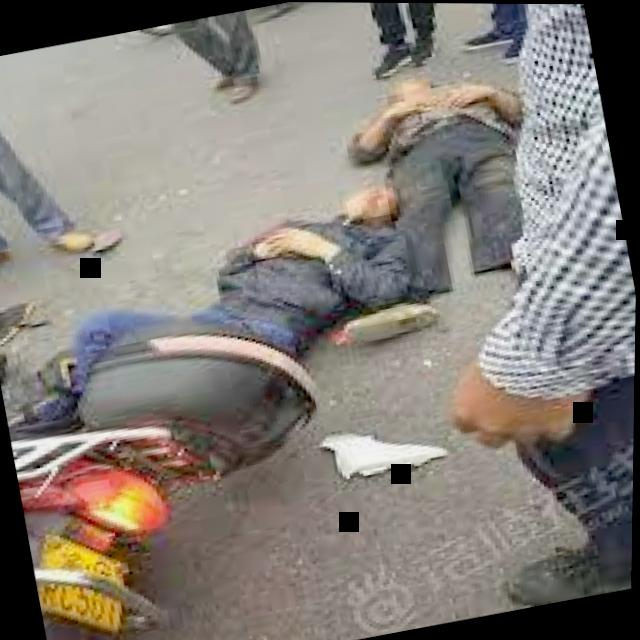Fall-Detected: (322, 38, 567, 298)
